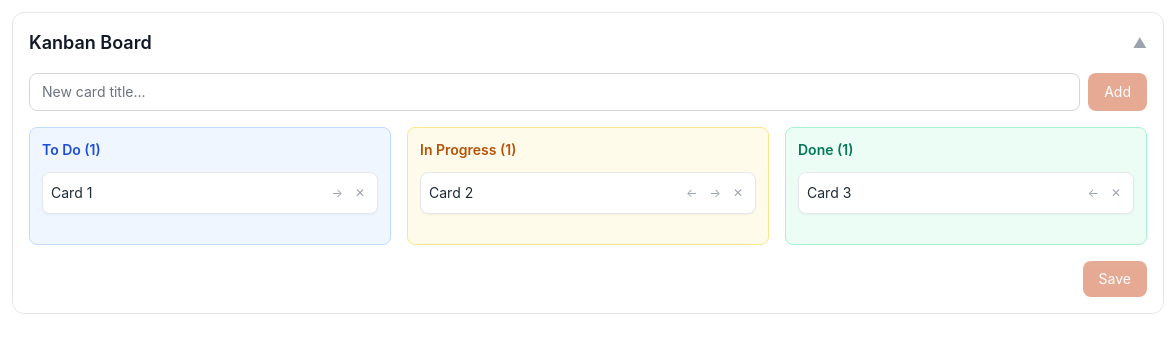
it: KanbanBoard › adds card when Add button clicked
The width and height of the screenshot is (1176, 363).
Type "Another card" into the field with placeholder "New card title..." at x=555, y=92, box [29,73,1080,111]
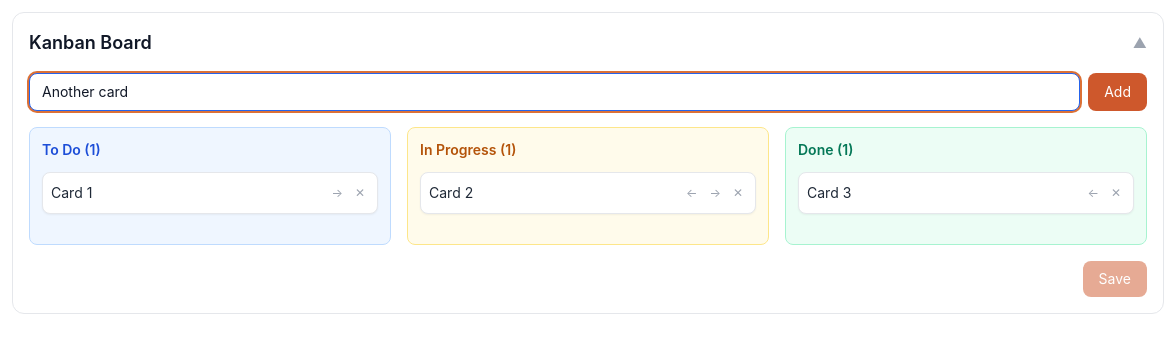
Click the button "Add" at x=1118, y=92, box [1088,73,1147,111]
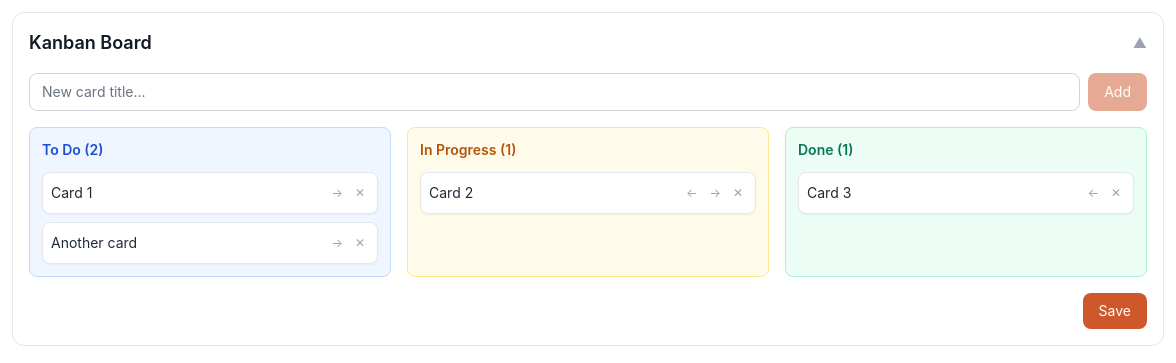
Expected: the text "Another card" is shown, [51,234,137,251]
